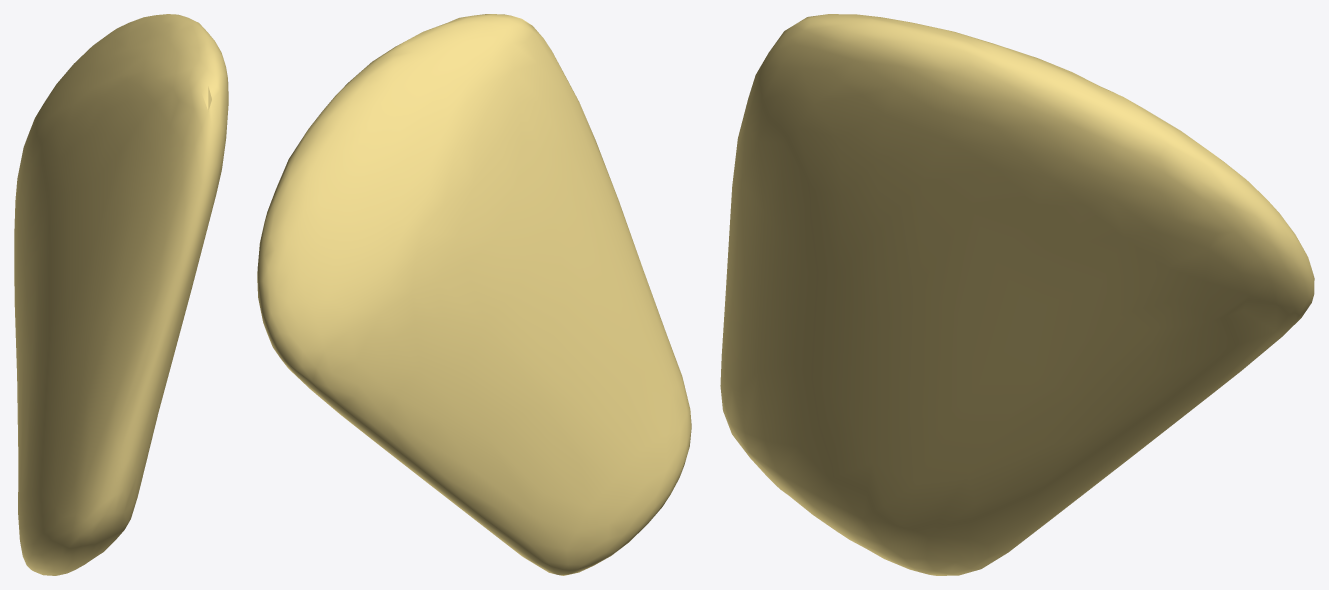
Rendered from fma73336_fj7489.glb.
3 renders of one model, left to right at view 1: azimuth 30°, elevation 25°; view 2: azimuth 150°, elevation 25°; view 3: azimuth 270°, elevation 25°, orthographic. The views are drawn at different scales.
Visible parts, largest first — view 1: FMA73336_FJ7489; view 2: FMA73336_FJ7489; view 3: FMA73336_FJ7489.
Boxes of the visible parts, x1,y1,x2,y2 form: FMA73336_FJ7489: (14,14,228,575); FMA73336_FJ7489: (257,14,691,575); FMA73336_FJ7489: (720,14,1314,575).
Size of the model in its own units: 0.00239 by 0.00456 by 0.00385.
